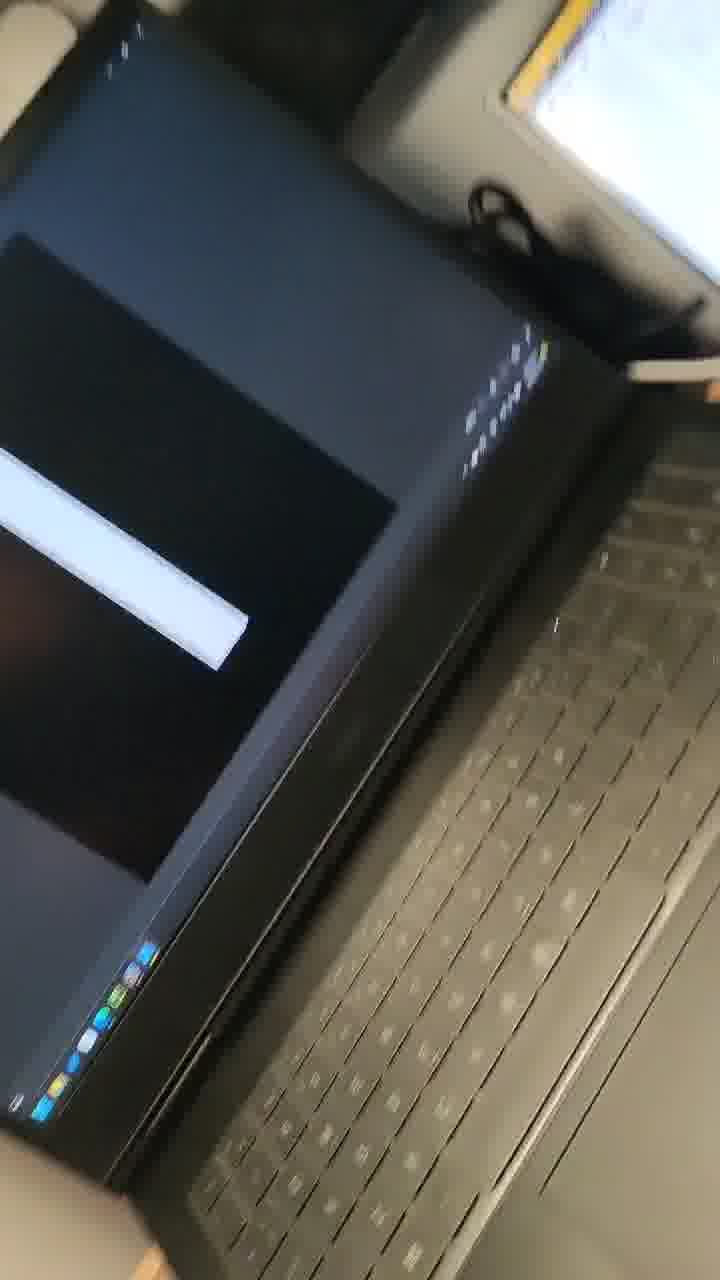one: (1, 391, 297, 741)
